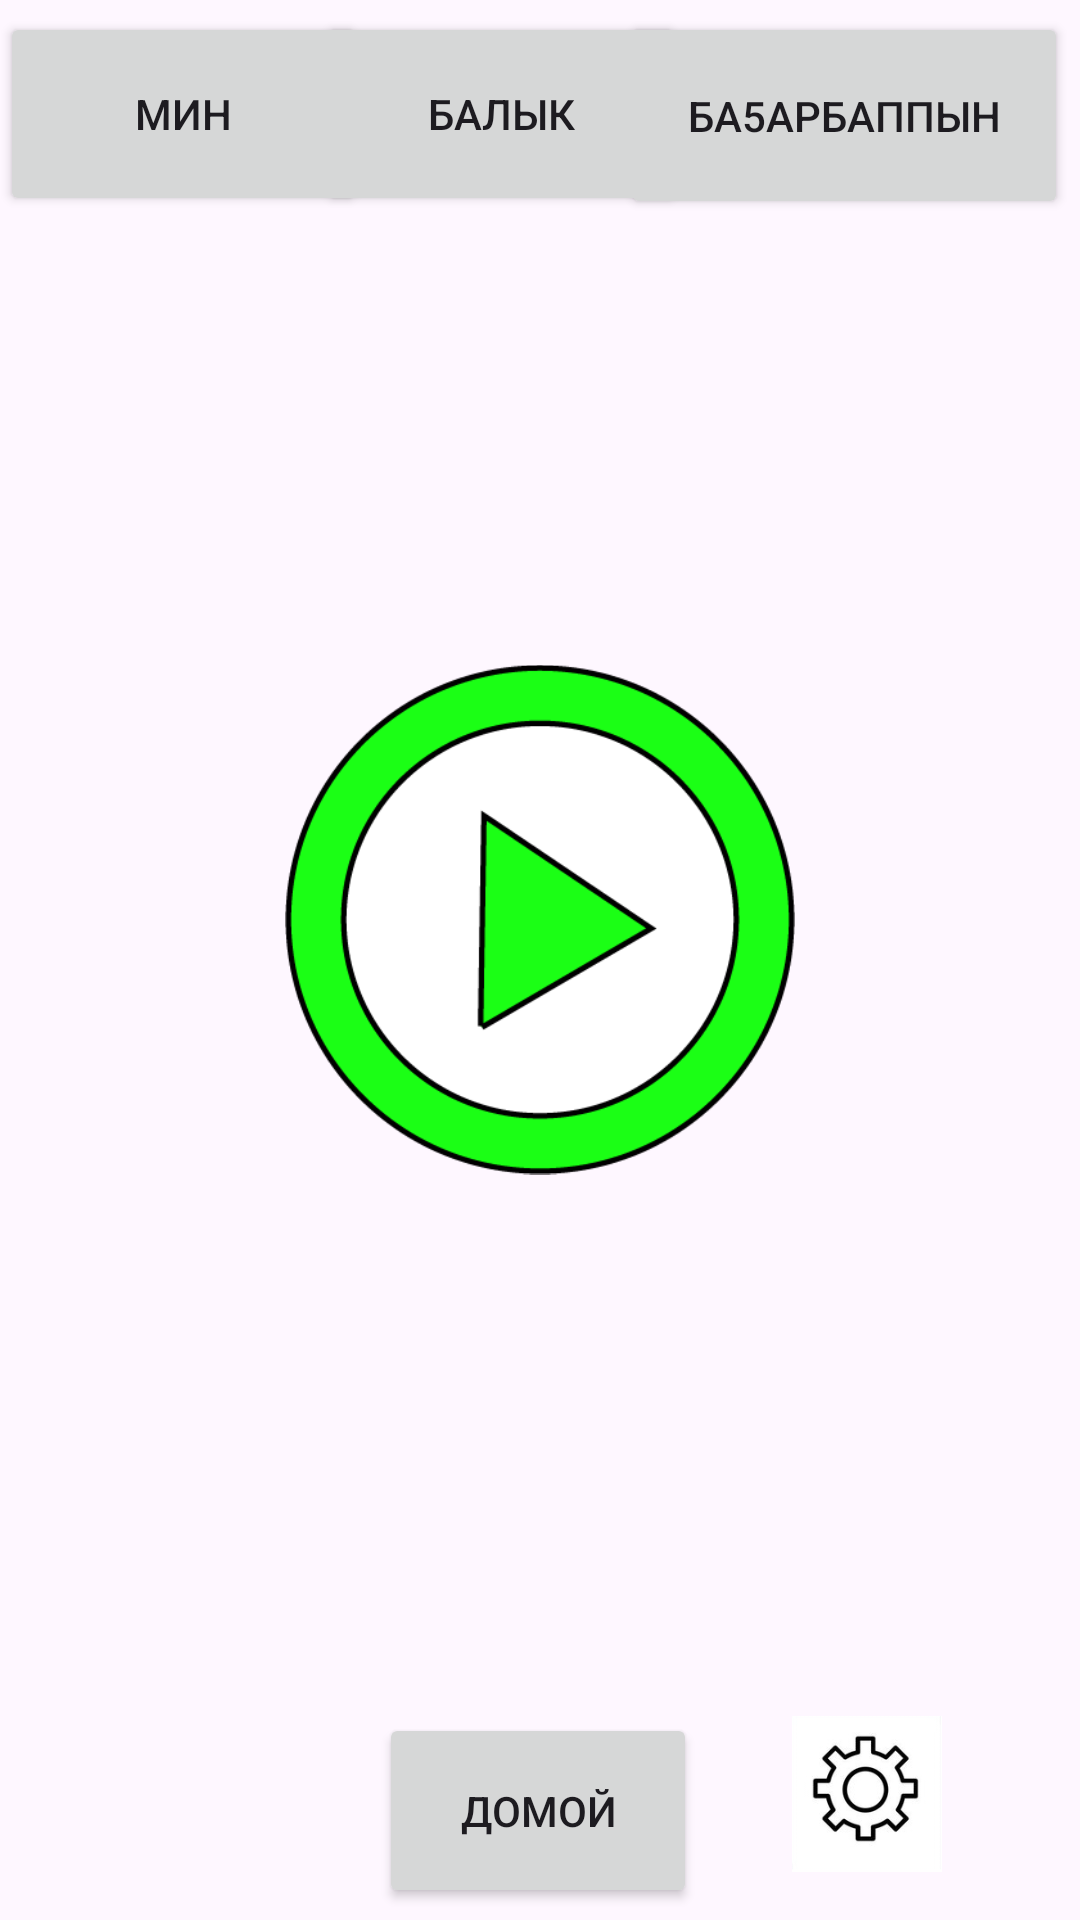

Screen size 1080x1920. Icon name, then its box in pixels as (x1, y1, x2, y2):
settings: (812, 1736, 919, 1842)
